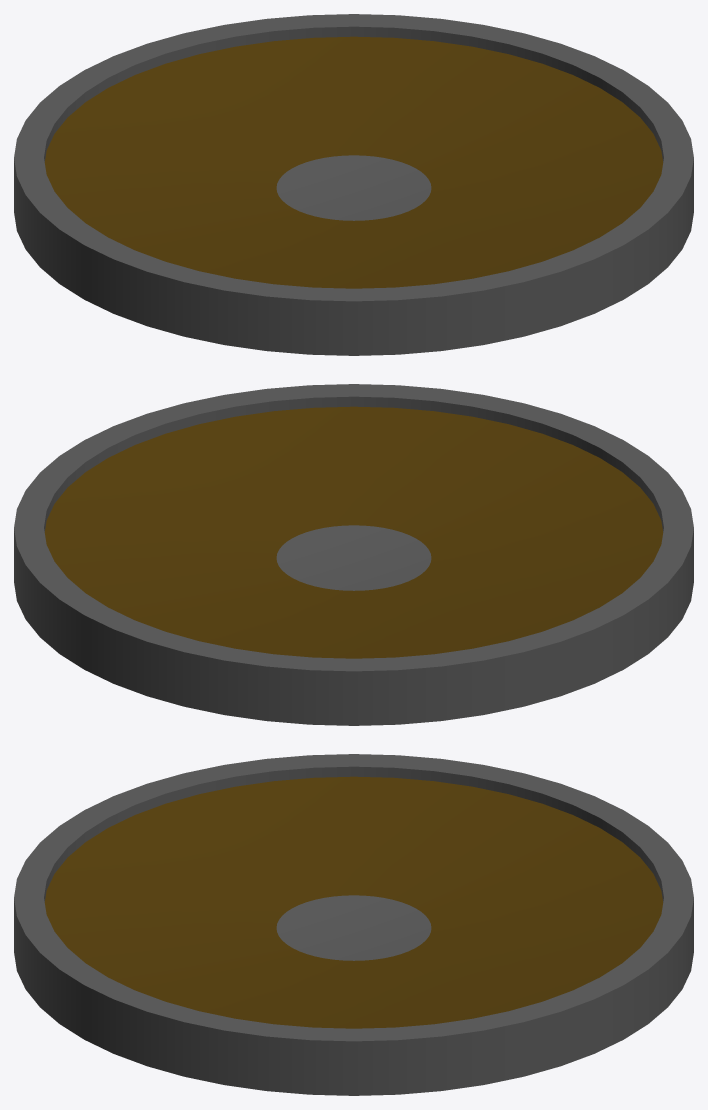
Rendered from arena1.glb.
3 renders of one model, top to bottom at view 1: azimuth 30°, elevation 25°; view 2: azimuth 150°, elevation 25°; view 3: azimuth 270°, elevation 25°, orthographic.
Visible parts, largest first — view 1: Cone; view 2: Cone; view 3: Cone.
Part boxes in pixels (x1,y1,x2,y2): Cone: (14, 14, 693, 355); Cone: (14, 384, 693, 725); Cone: (14, 754, 693, 1095).
Size of the model in its own units: 8.77 by 1.07 by 8.77.
